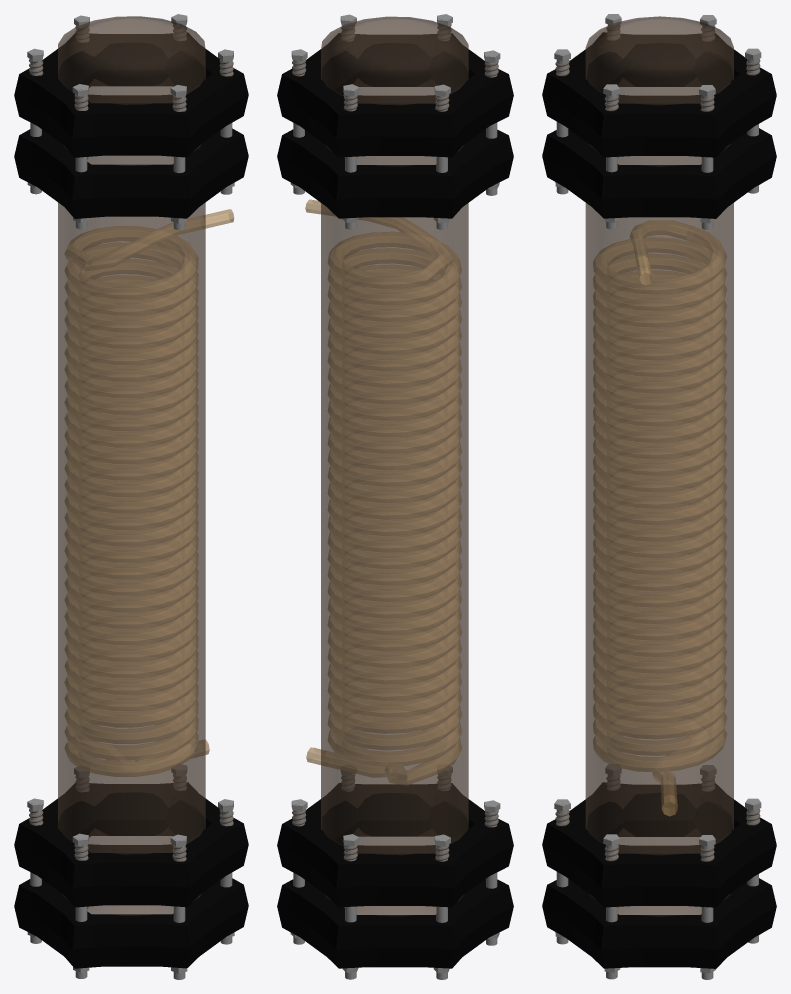
File: TopCooler.fbx
3 renders of one model, left to right at view 1: azimuth 30°, elevation 25°; view 2: azimuth 150°, elevation 25°; view 3: azimuth 270°, elevation 25°, orthographic.
Parts seen in each view (by area): view 1: c1, h1, t1 (×2), t2 (×2); view 2: c1, h1, t1 (×2), t2 (×2); view 3: c1, h1, t1 (×2), t2 (×2).
Part boxes in pixels (bbox=[...]): c1: bbox=[58, 16, 205, 915]; h1: bbox=[64, 209, 234, 776]; t1 (×2): bbox=[14, 32, 248, 907]; t2 (×2): bbox=[14, 95, 248, 968]; c1: bbox=[321, 16, 468, 916]; h1: bbox=[305, 199, 461, 785]; t1 (×2): bbox=[277, 33, 513, 907]; t2 (×2): bbox=[277, 95, 513, 968]; c1: bbox=[585, 16, 733, 916]; h1: bbox=[593, 220, 726, 816]; t1 (×2): bbox=[542, 32, 776, 907]; t2 (×2): bbox=[542, 95, 776, 968].
Bounding box in the file's own units: 1.56 × 7.46 × 1.74.
